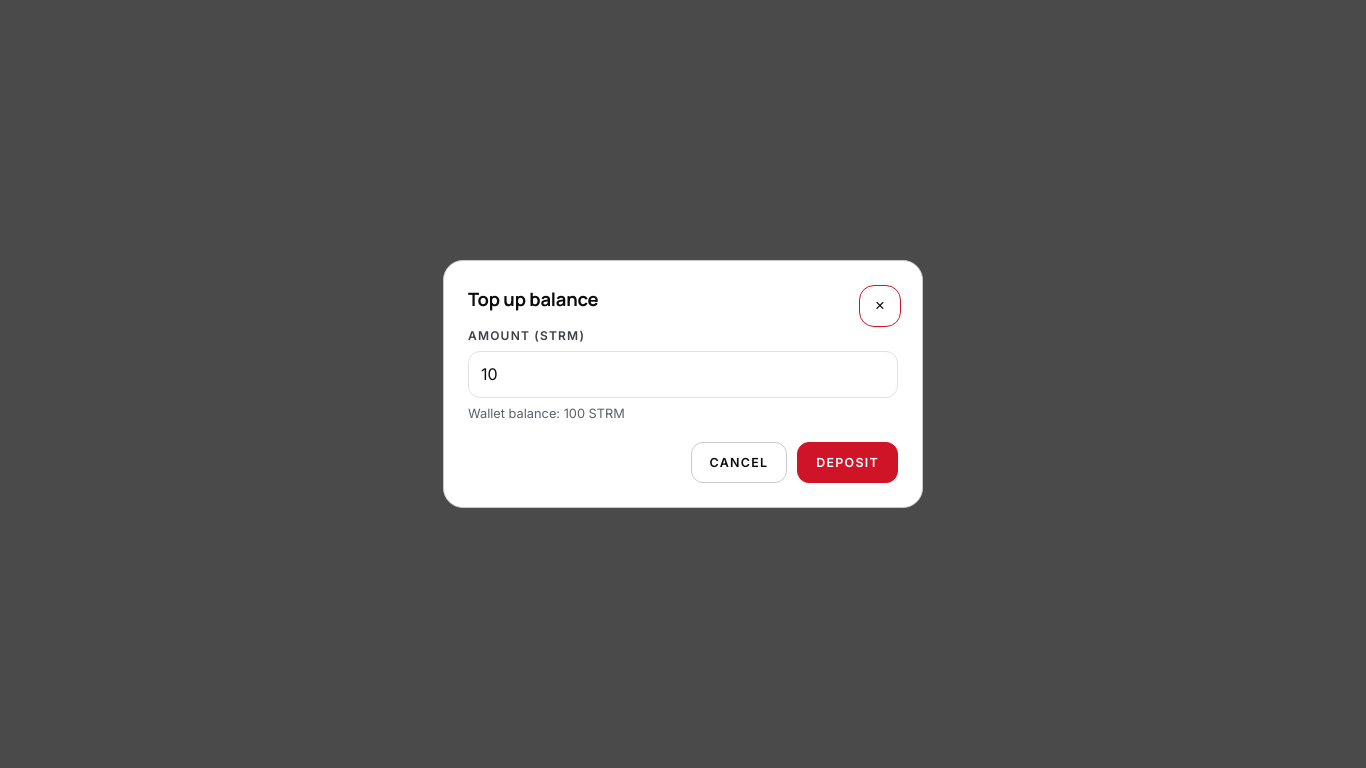
Test: top-up flow › shows failures as an alert and lets the user retry
The image size is (1366, 768).
Step 1. Click the button "Deposit" → (848, 463), box x1=797 y1=442 x2=898 y2=483
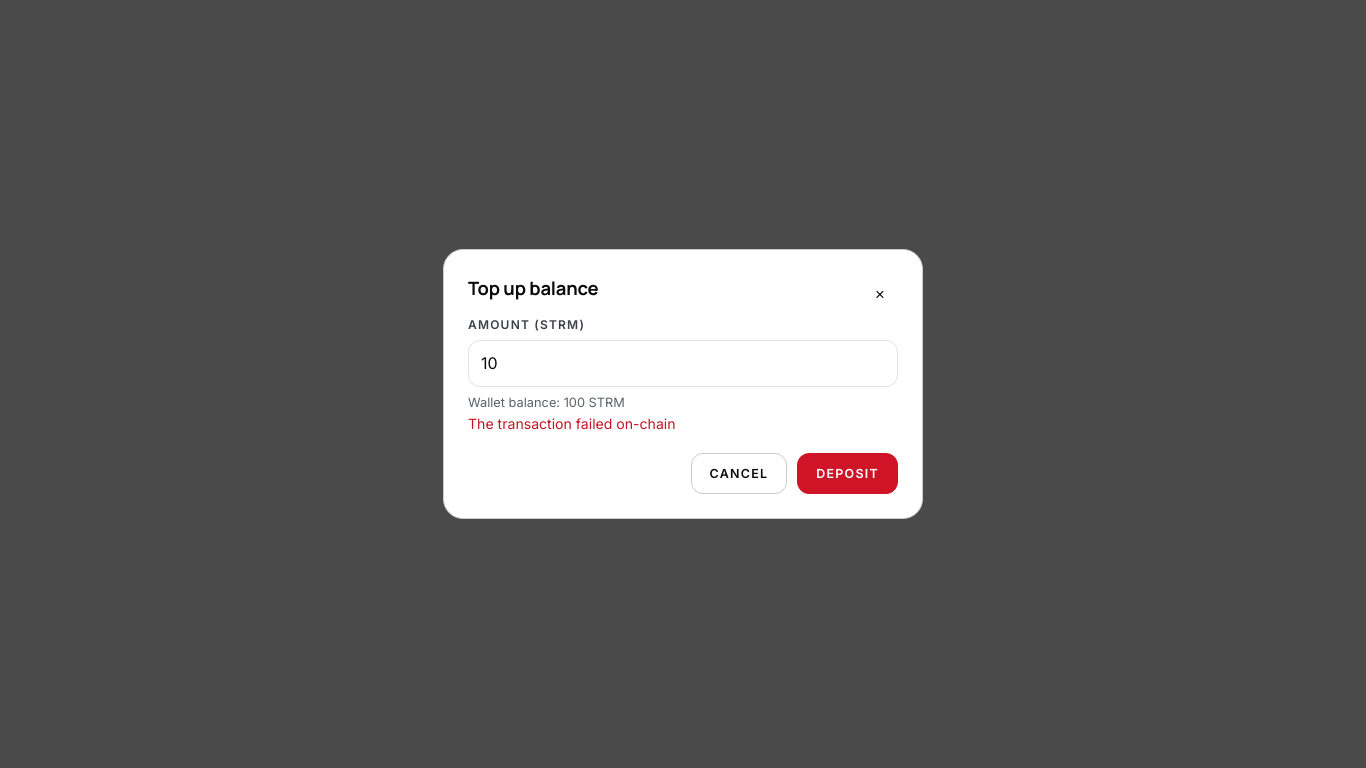
Check: the button "Deposit" is enabled, box x1=797 y1=453 x2=898 y2=494
Check: the message reads "The transaction failed on-chain", box x1=468 y1=415 x2=676 y2=432
